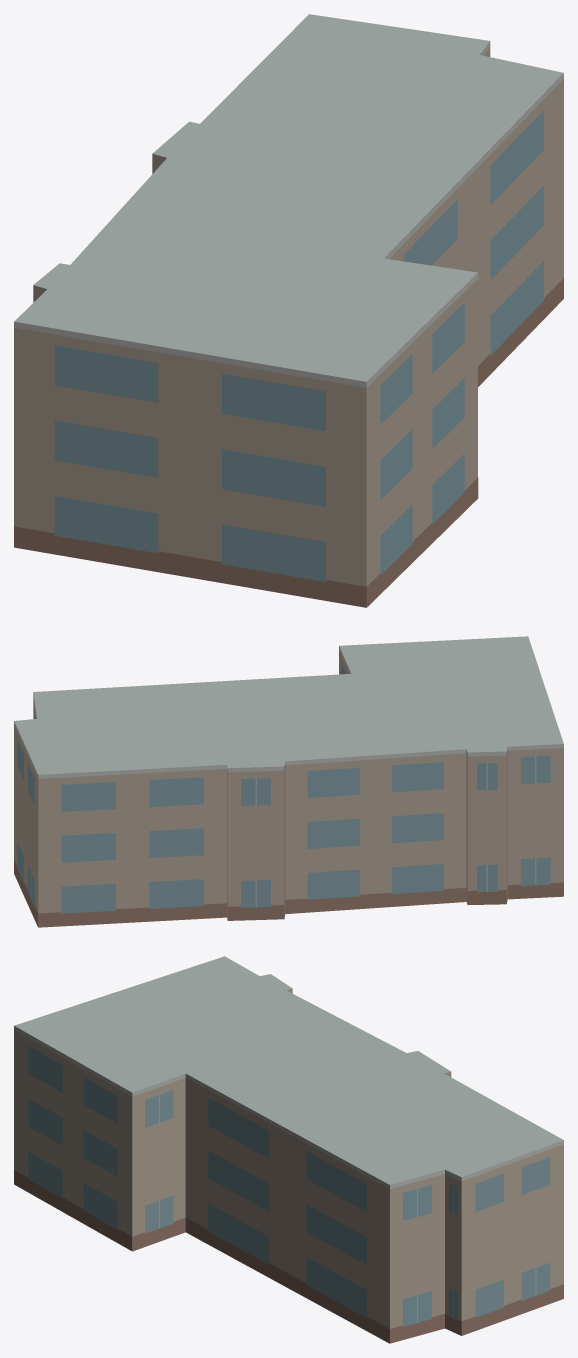
Rendered from survey-upis-32820739.glb.
3 views of the same model, one above another, from view 1: azimuth 30°, elevation 25°; view 2: azimuth 150°, elevation 25°; view 3: azimuth 270°, elevation 25° (orthographic). The views are drawn at different scales.
Parts seen in each view (by area): view 1: survey-upis-32820739.tmp; view 2: survey-upis-32820739.tmp; view 3: survey-upis-32820739.tmp.
Part boxes in pixels (x1,y1,x2,y2): survey-upis-32820739.tmp: (14, 14, 563, 607); survey-upis-32820739.tmp: (14, 636, 563, 927); survey-upis-32820739.tmp: (14, 956, 563, 1343).
Bounding box in the file's own units: 28.29 × 9.15 × 28.73.
